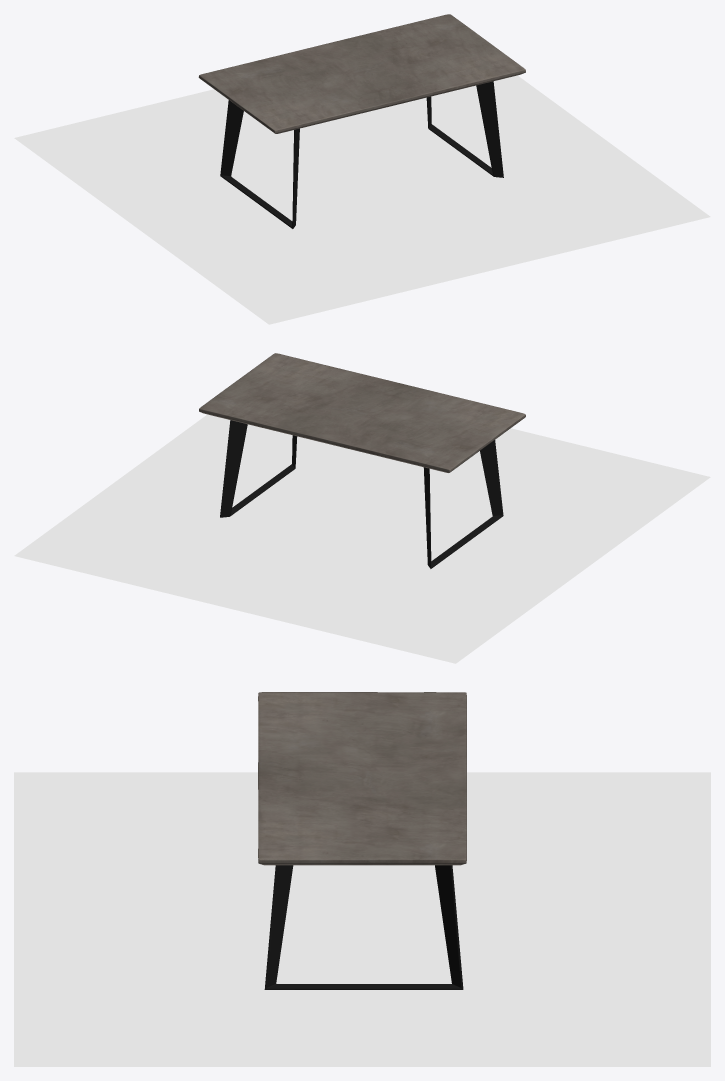
3 renders of one model, top to bottom at view 1: azimuth 30°, elevation 25°; view 2: azimuth 150°, elevation 25°; view 3: azimuth 270°, elevation 25°, orthographic. The views are drawn at different scales.
Parts seen in each view (by area): view 1: Plane001, Boone_Dining_Table; view 2: Plane001, Boone_Dining_Table; view 3: Plane001, Boone_Dining_Table.
Boxes of the visible parts, x1,y1,x2,y2 form: Plane001: (14,75,710,324); Boone_Dining_Table: (198,14,525,228); Plane001: (14,414,710,663); Boone_Dining_Table: (199,353,525,568); Plane001: (14,772,710,1066); Boone_Dining_Table: (258,692,466,989).
Size of the model in its own units: 334 by 76.2 by 334.
3 materials, 2 textured.
